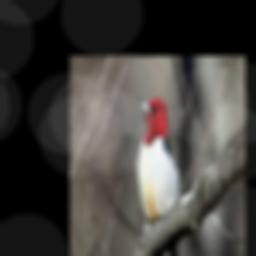Woodpecker: (135, 96, 181, 256)
